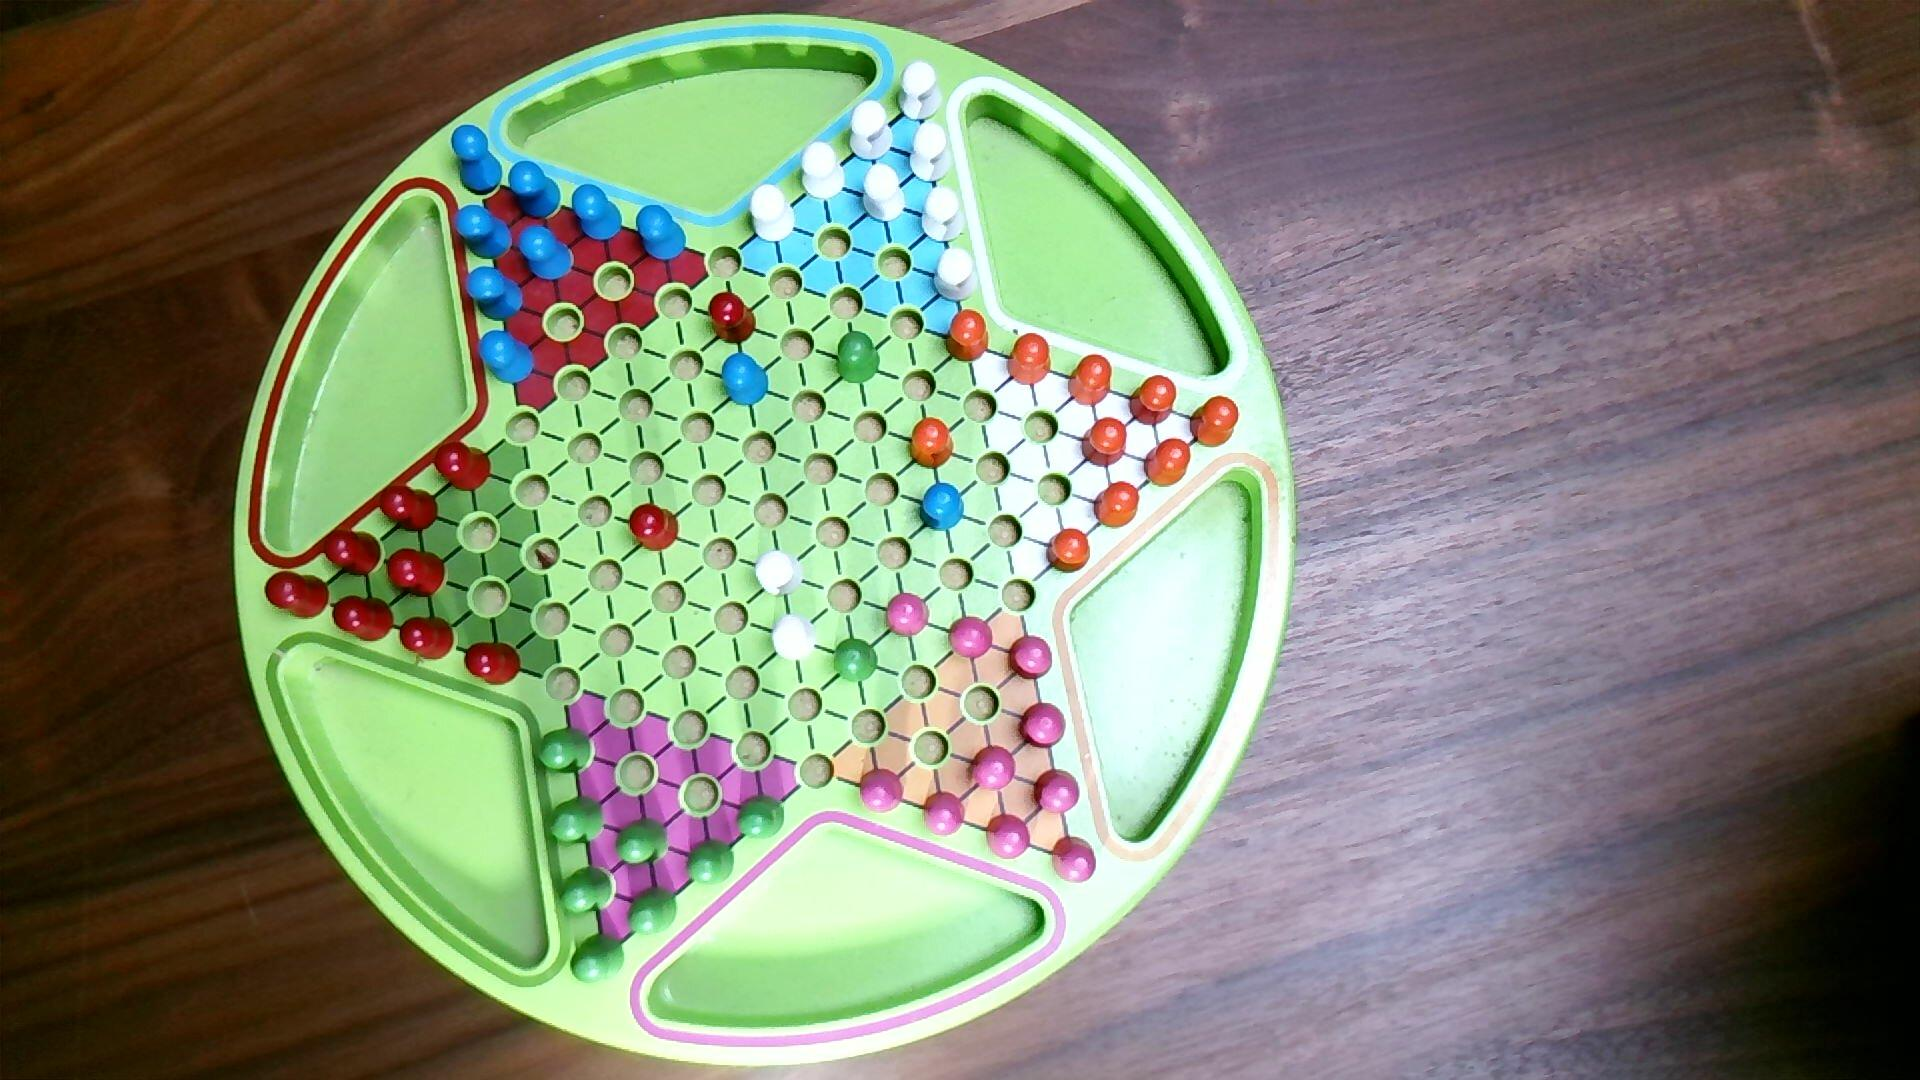B: (451, 123, 506, 200), (516, 223, 578, 284), (463, 266, 527, 324), (454, 203, 516, 262), (477, 328, 539, 386), (508, 158, 564, 222), (636, 202, 688, 265), (570, 183, 625, 243), (720, 349, 771, 410), (919, 480, 967, 535)
G: (558, 864, 620, 920), (535, 725, 599, 777), (570, 931, 626, 986), (615, 816, 673, 870), (549, 795, 608, 848), (626, 884, 680, 939), (835, 327, 884, 386), (686, 836, 737, 890), (735, 793, 789, 843), (832, 636, 882, 684)
O: (1188, 393, 1242, 450), (1127, 373, 1180, 429), (1065, 352, 1114, 409), (945, 306, 992, 365), (1080, 415, 1130, 469), (1143, 436, 1193, 491), (909, 415, 956, 471), (1006, 331, 1054, 386), (1093, 479, 1142, 531), (1046, 526, 1095, 575)
R: (264, 568, 332, 621), (433, 436, 493, 495), (384, 546, 448, 600), (330, 593, 396, 644), (377, 483, 440, 534), (322, 527, 385, 578), (707, 290, 760, 347), (463, 640, 524, 688), (400, 615, 458, 663), (629, 502, 680, 553)
R2: (1019, 700, 1069, 750), (969, 742, 1018, 793), (1033, 767, 1083, 816), (1007, 632, 1055, 682), (985, 812, 1033, 862), (1051, 835, 1098, 885), (885, 591, 932, 640), (948, 615, 996, 662), (858, 766, 905, 815), (923, 791, 967, 837)
W: (895, 58, 945, 124), (800, 140, 848, 203), (910, 120, 956, 185), (861, 161, 909, 223), (851, 98, 895, 162), (750, 183, 798, 244), (920, 185, 968, 245), (932, 247, 981, 305), (756, 549, 806, 600), (770, 612, 819, 665)
